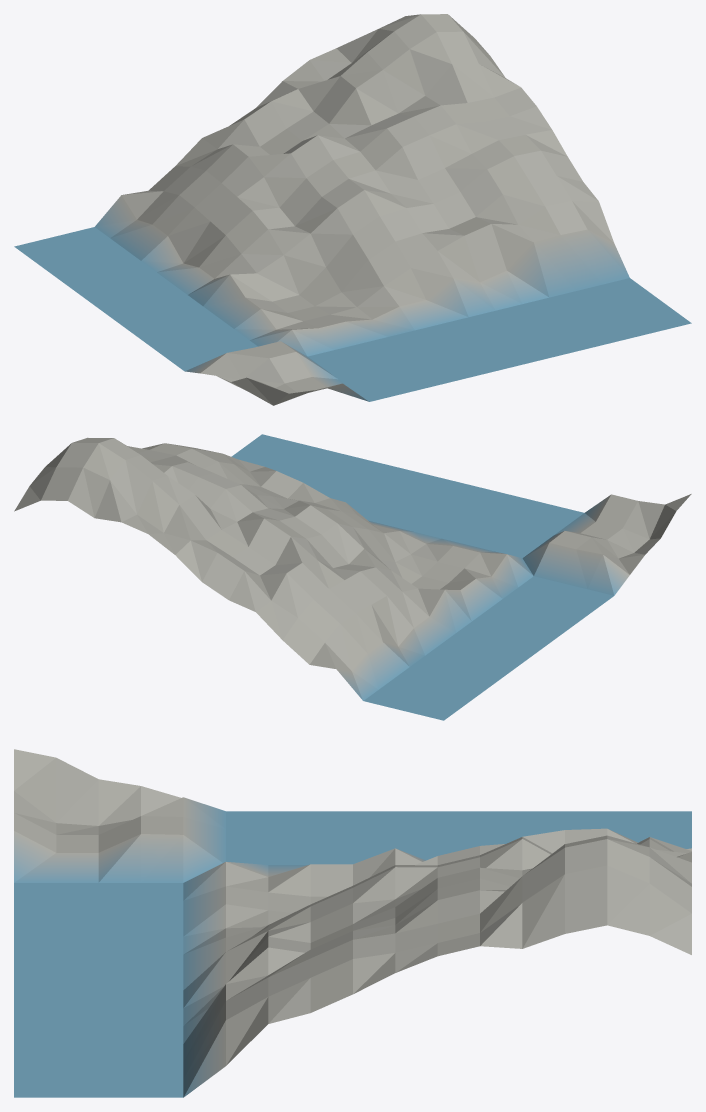
3 renders of one model, top to bottom at view 1: azimuth 30°, elevation 25°; view 2: azimuth 150°, elevation 25°; view 3: azimuth 270°, elevation 25°, orthographic. The views are drawn at different scales.
Bounding box in the file's own units: 32 × 11.61 × 32.
